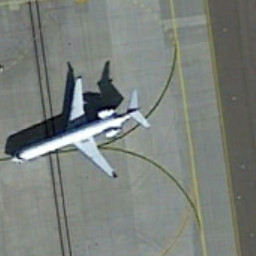Airplane: (5, 65, 155, 198)
